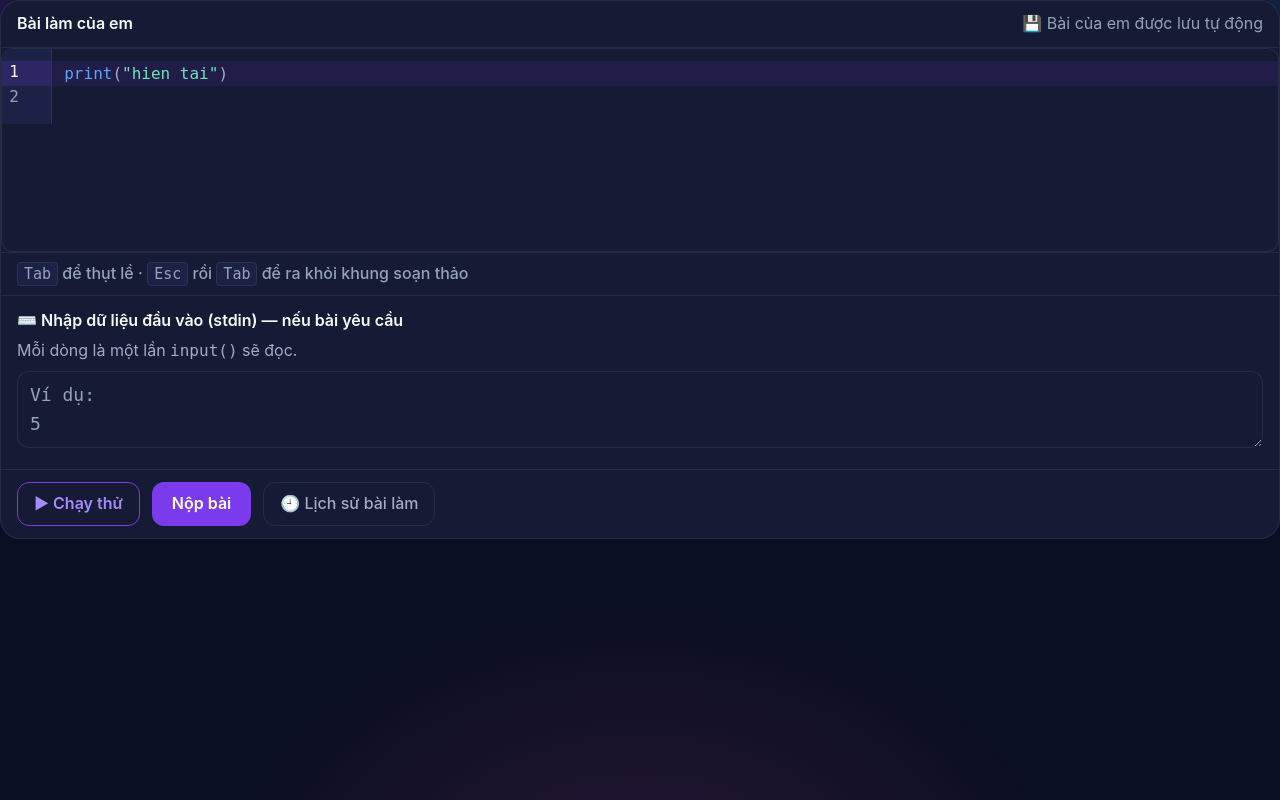
Test: Khu làm bài › chạy thử gửi mã đang soạn và hiện những gì chương trình in ra
Click the button "▶ Chạy thử" at [78, 504], box x1=17 y1=482 x2=140 y2=526
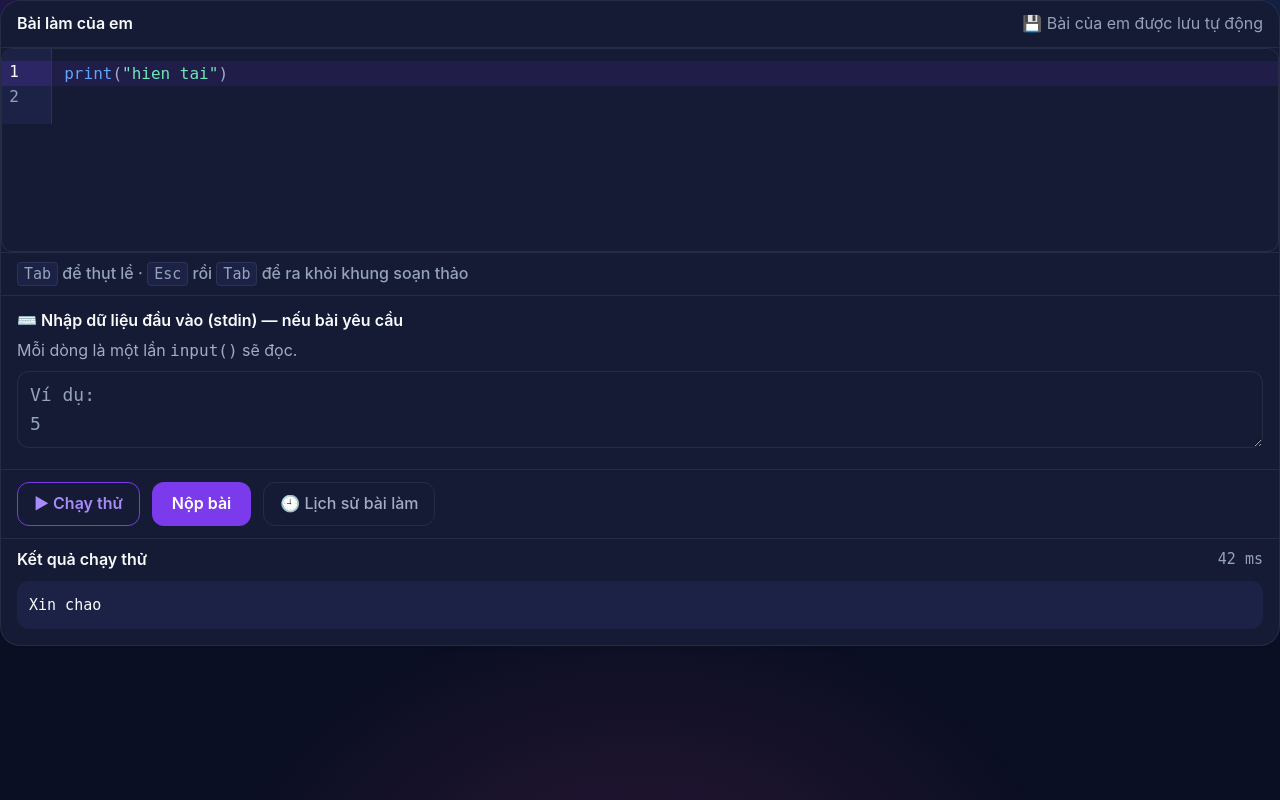
Now the text "Xin chao" is shown, box x1=17 y1=581 x2=1263 y2=629
